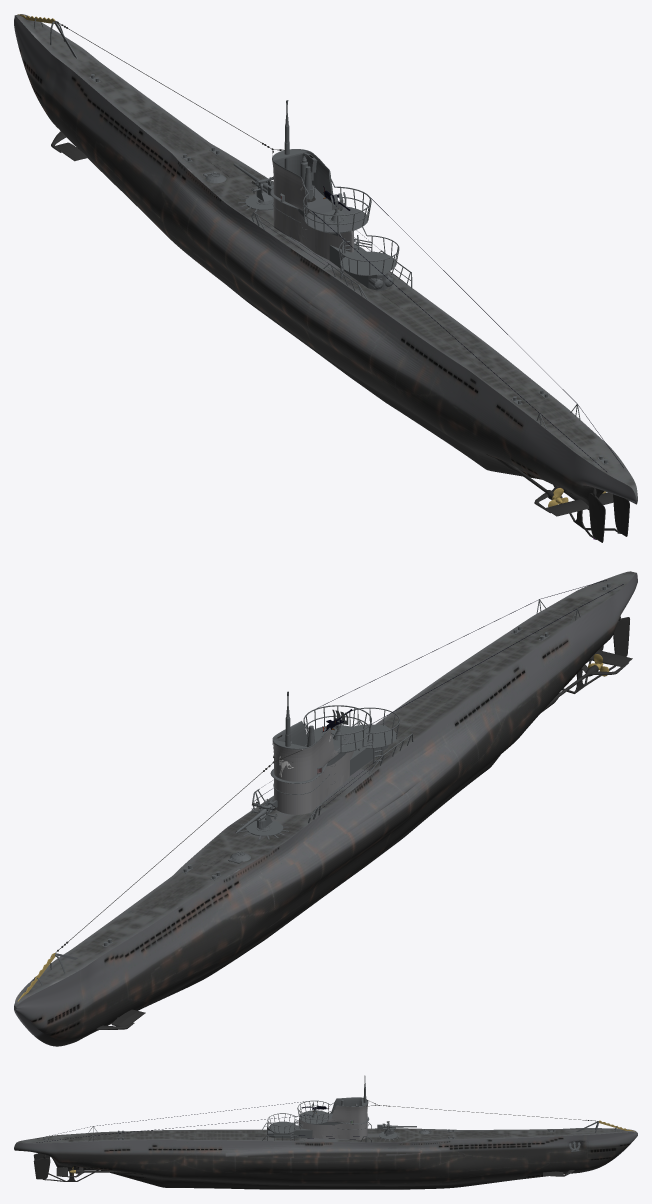
Rendered from Submarine.fbx.
The picture shows the model from 3 angles, top to bottom: view 1: azimuth 30°, elevation 25°; view 2: azimuth 150°, elevation 25°; view 3: azimuth 270°, elevation 25°; orthographic projection. The views are drawn at different scales.
Visible parts, largest first — view 1: Type VII Hull_46331.Shape, Wintergarten 3_3936.Shape, Wintergarten 1_1988.Shape; view 2: Type VII Hull_46331.Shape, Wintergarten 1_1988.Shape, Wintergarten 3_3936.Shape; view 3: Type VII Hull_46331.Shape, Wintergarten 3_3936.Shape, Wintergarten 1_1988.Shape, Deck Gun_4904.Shape.
Part boxes in pixels (bbox=[...]): Type VII Hull_46331.Shape: bbox=[14, 14, 637, 542]; Wintergarten 3_3936.Shape: bbox=[329, 226, 399, 290]; Wintergarten 1_1988.Shape: bbox=[301, 179, 576, 412]; Type VII Hull_46331.Shape: bbox=[14, 571, 637, 1046]; Wintergarten 1_1988.Shape: bbox=[303, 599, 576, 753]; Wintergarten 3_3936.Shape: bbox=[340, 707, 399, 775]; Type VII Hull_46331.Shape: bbox=[14, 1097, 637, 1189]; Wintergarten 3_3936.Shape: bbox=[267, 1113, 312, 1140]; Wintergarten 1_1988.Shape: bbox=[94, 1100, 335, 1135]; Deck Gun_4904.Shape: bbox=[377, 1121, 416, 1136].
Bounding box in the file's own units: 16.25 × 34.05 × 170.
19 materials, 7 textured.
